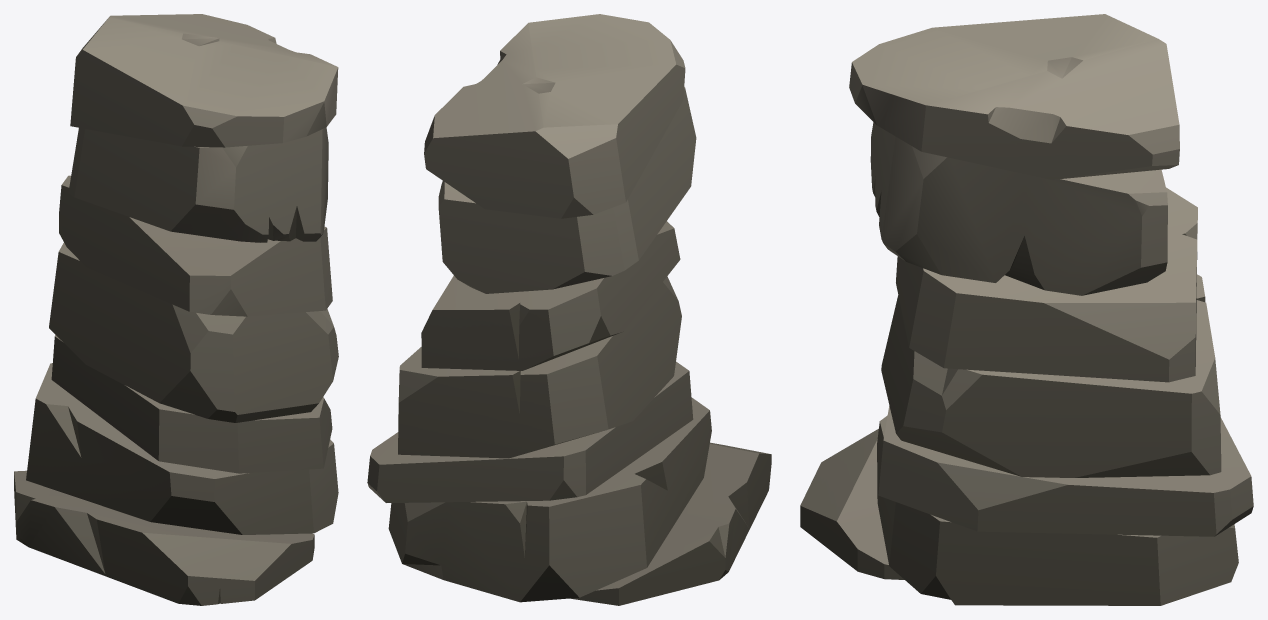
The model's file is Cliff_Vertical_2B.fbx.
3 views of the same model, side by side, from view 1: azimuth 30°, elevation 25°; view 2: azimuth 150°, elevation 25°; view 3: azimuth 270°, elevation 25° (orthographic). The views are drawn at different scales.
Visible parts, largest first — view 1: Cliff_Vertical_2B; view 2: Cliff_Vertical_2B; view 3: Cliff_Vertical_2B.
Part boxes in pixels (x1,y1,x2,y2): Cliff_Vertical_2B: [14, 14, 338, 605]; Cliff_Vertical_2B: [367, 14, 771, 605]; Cliff_Vertical_2B: [800, 14, 1253, 605].
Bounding box in the file's own units: 1401 × 2079 × 1714.
